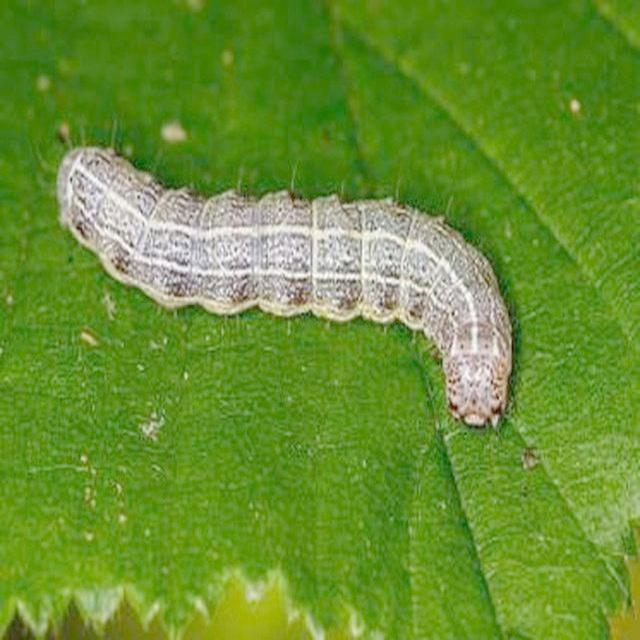gusano_cogollero: (58, 142, 515, 428)
